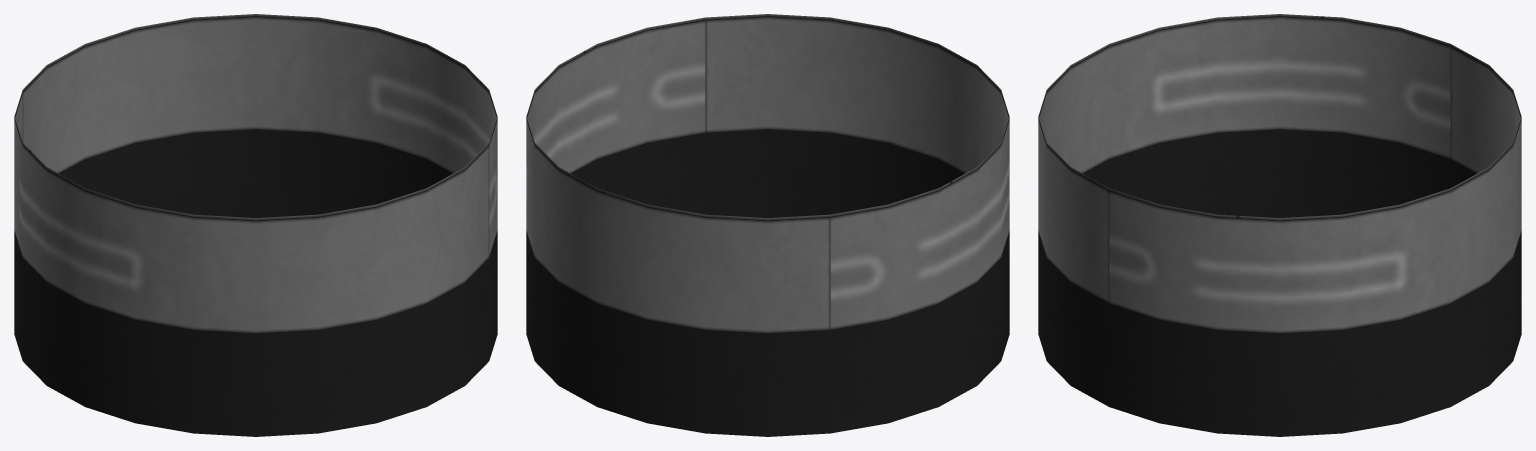
The model's file is black_anvil_fuel_tank_s1_1.obj.
3 renders of one model, left to right at view 1: azimuth 30°, elevation 25°; view 2: azimuth 150°, elevation 25°; view 3: azimuth 270°, elevation 25°, orthographic.
Visible parts, largest first — view 1: mesh1; view 2: mesh1; view 3: mesh1.
Boxes of the visible parts, x1,y1,x2,y2 form: mesh1: (14, 14, 497, 436); mesh1: (526, 14, 1009, 436); mesh1: (1038, 14, 1521, 436).
Bounding box in the file's own units: 1.25 × 0.625 × 1.25.
